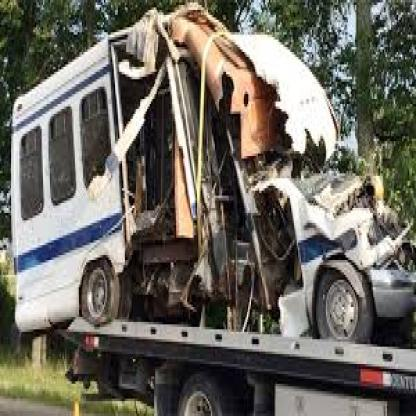accident: (9, 6, 416, 358)
